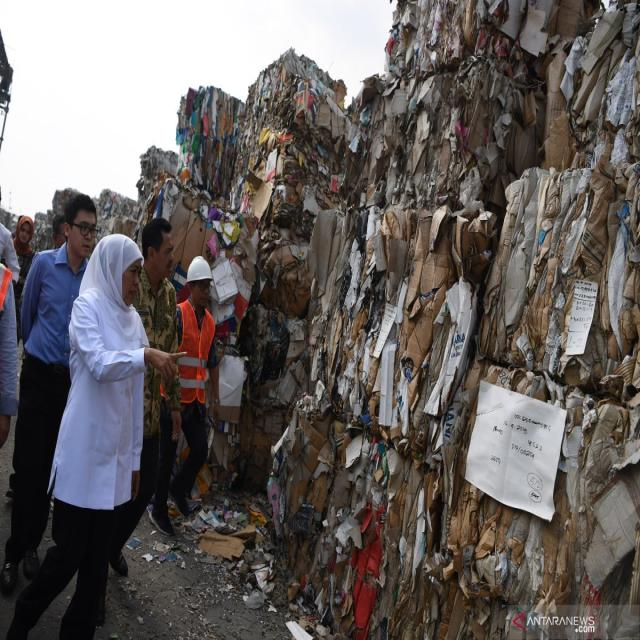Kertas: (324, 441, 624, 626), (245, 228, 485, 433), (484, 150, 624, 399), (142, 60, 252, 204), (218, 35, 318, 183)
